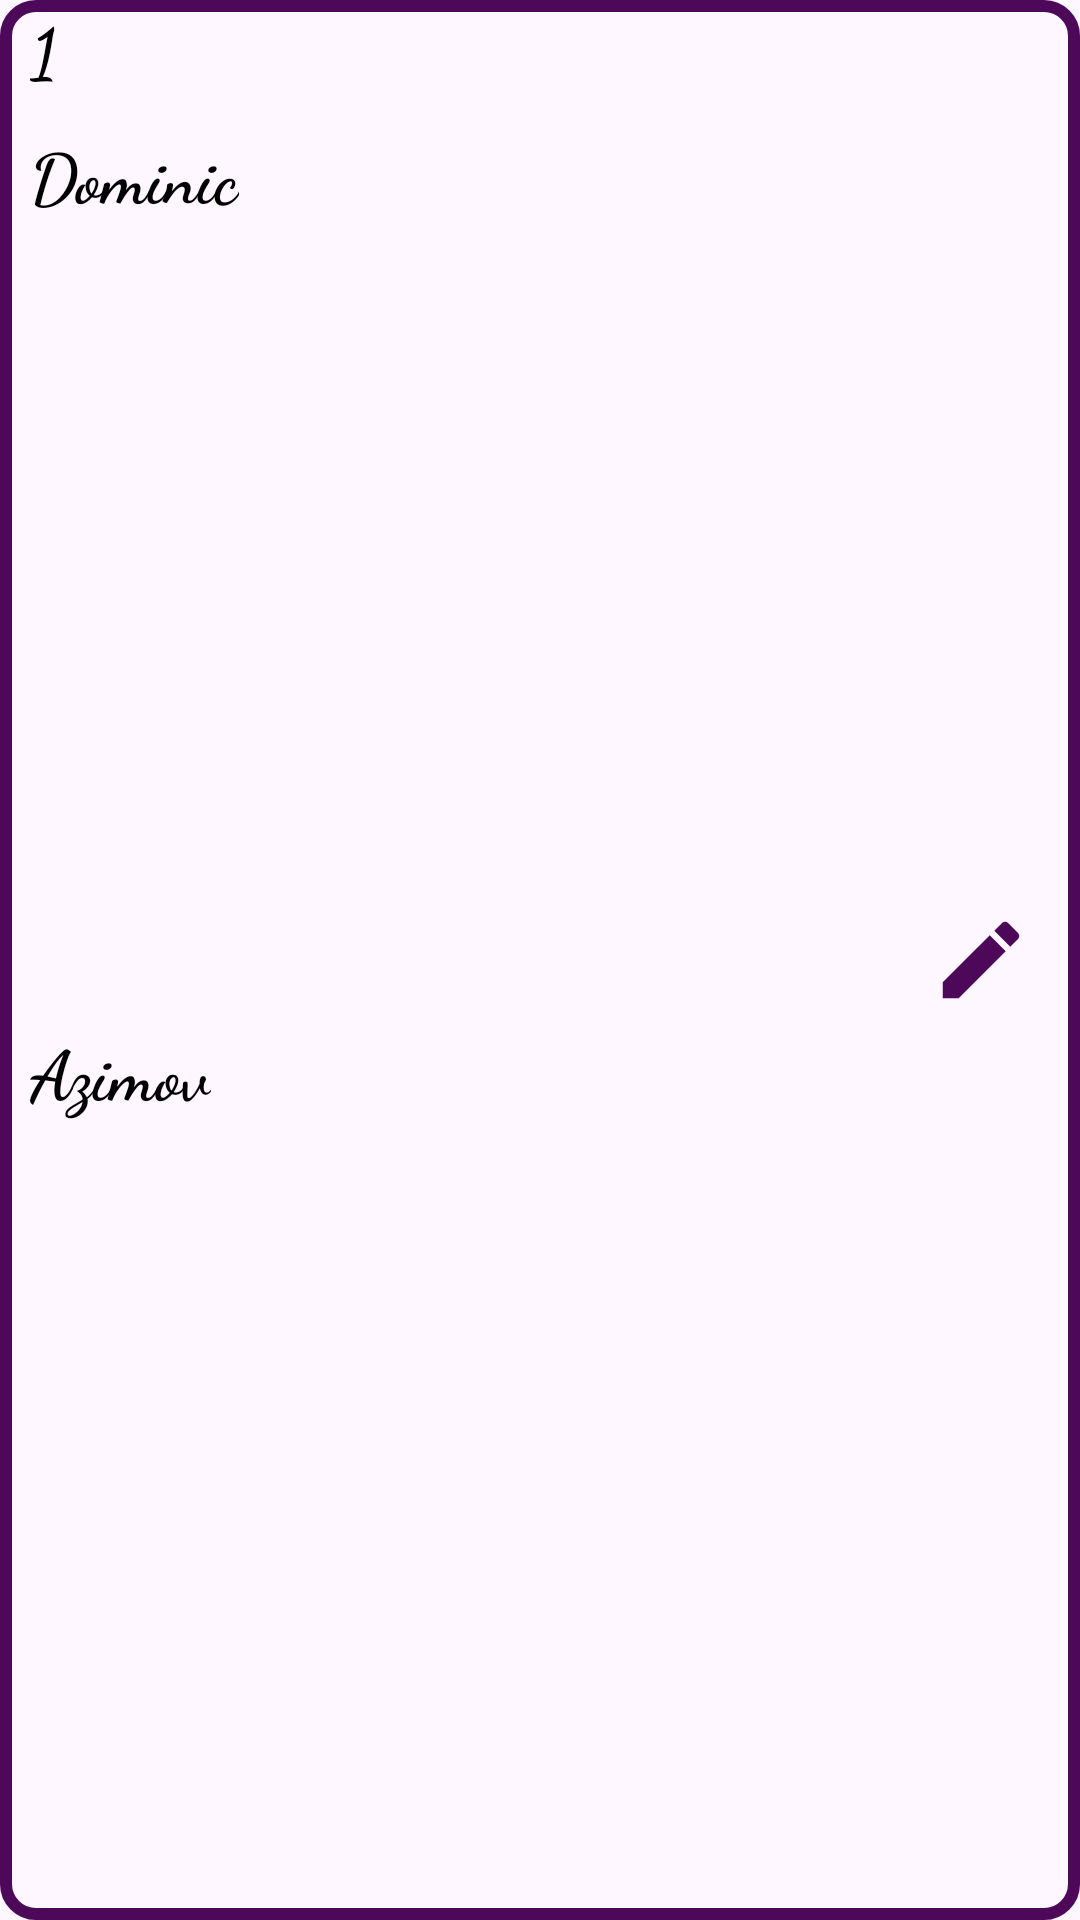

Icons on this 1080 x 1920 Android screen, each with its box as (x1, y1, x2, y2):
edit: (942, 921, 1020, 999)
